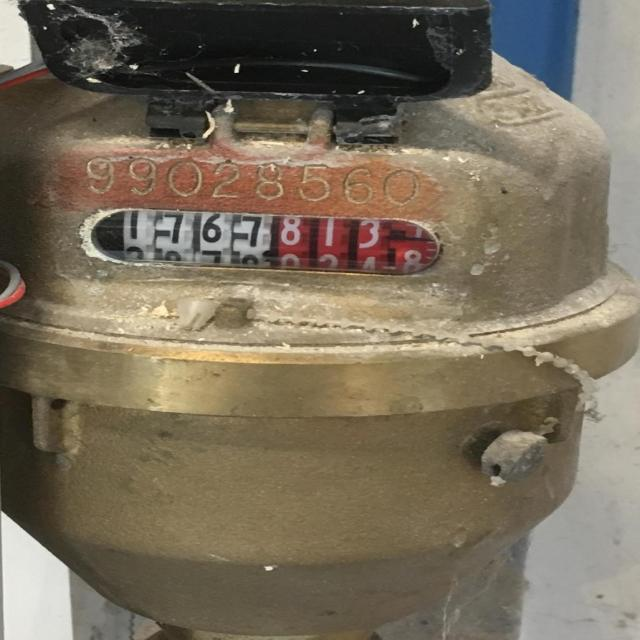gaz_meter: (6, 101, 558, 348)
indication: (104, 208, 436, 274)
